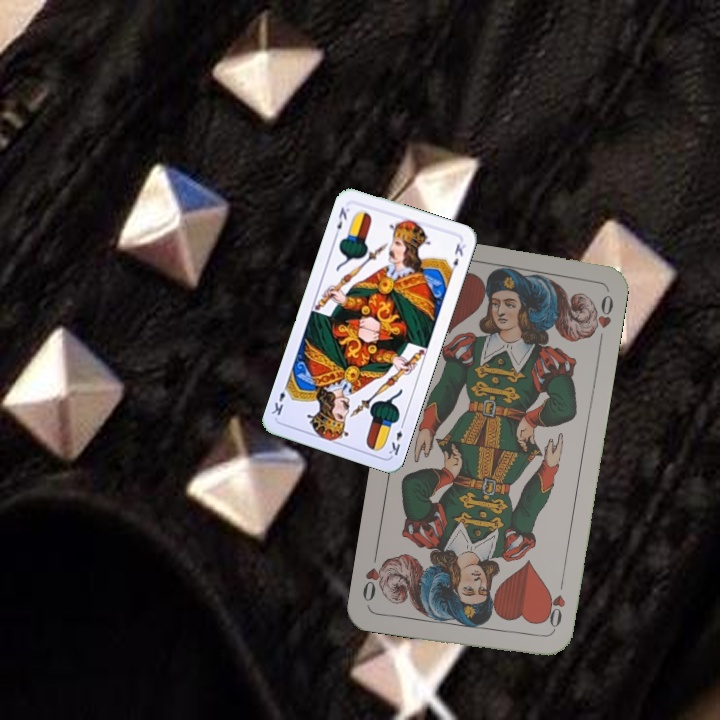EK: (385, 418, 407, 458), (330, 203, 352, 240)
HO: (540, 576, 568, 635)
